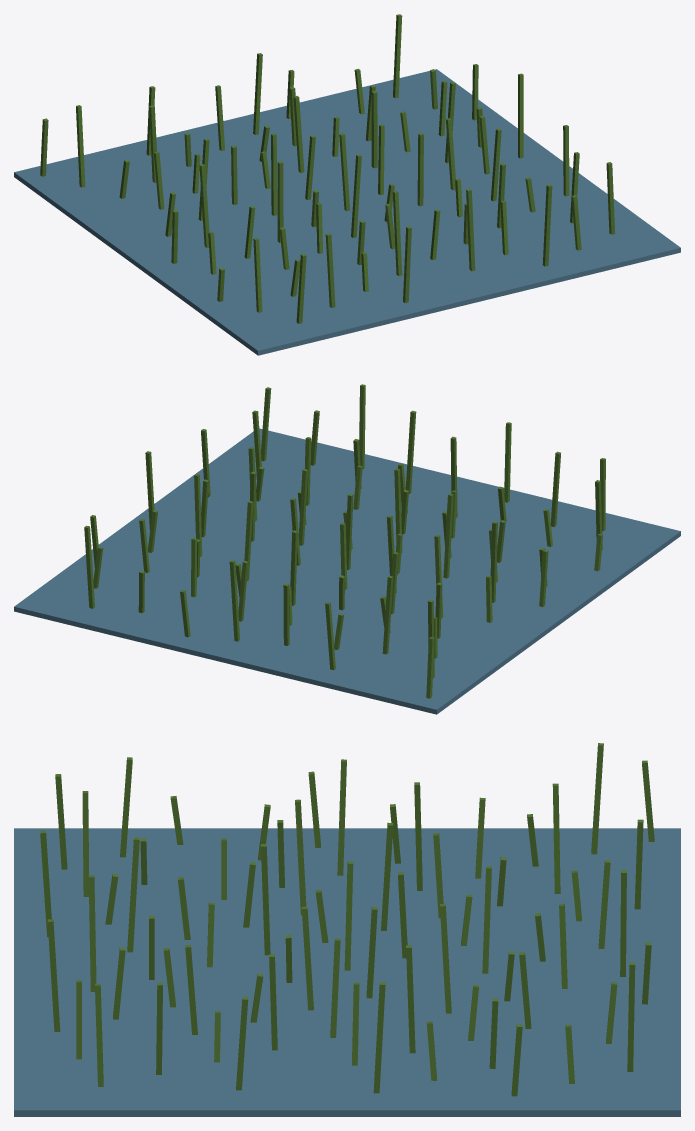
Rendered from reeds.obj.
3 views of the same model, one above another, from view 1: azimuth 30°, elevation 25°; view 2: azimuth 150°, elevation 25°; view 3: azimuth 270°, elevation 25° (orthographic). The views are drawn at different scales.
Bounding box in the file's own units: 9.2 × 1.8 × 9.2.
